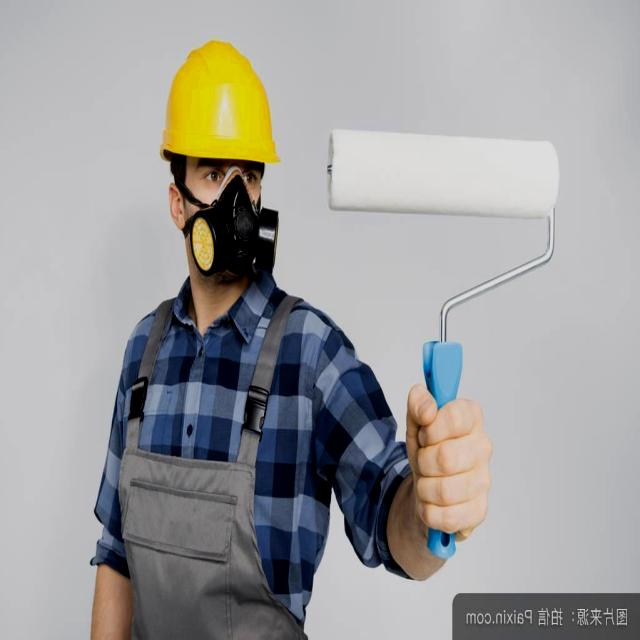face_mask: (180, 160, 278, 290)
hand_noglove: (387, 377, 506, 547)
head_helmet: (155, 33, 282, 163)
person: (84, 44, 449, 638)
